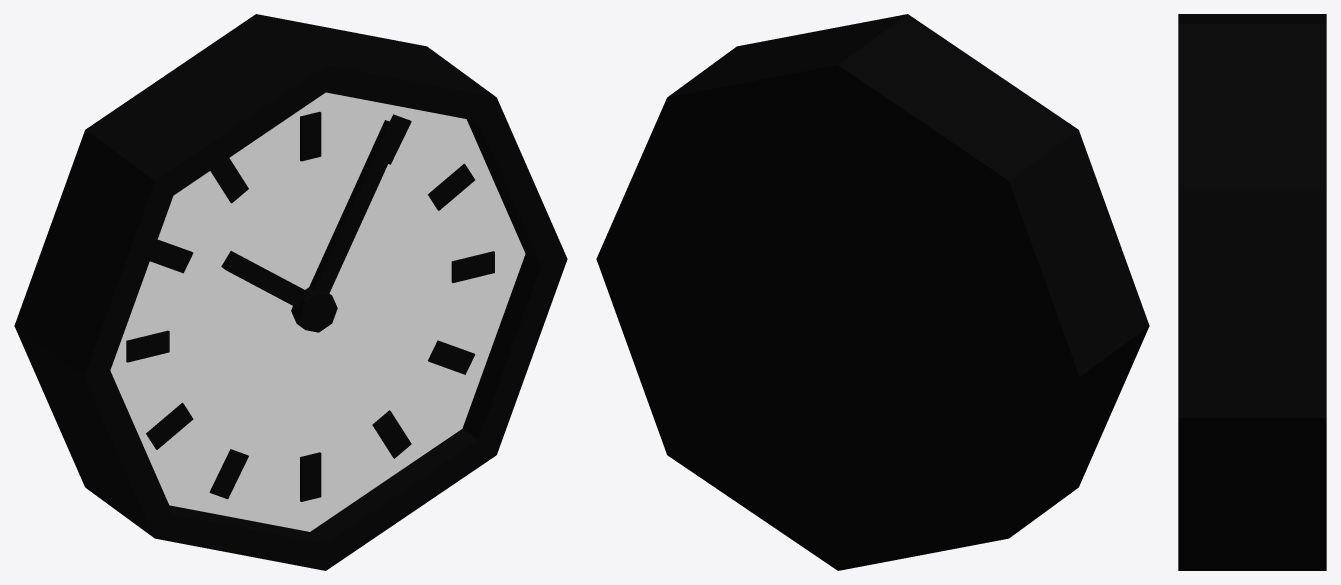
File: clock.gltf
3 views of the same model, side by side, from view 1: azimuth 30°, elevation 25°; view 2: azimuth 150°, elevation 25°; view 3: azimuth 270°, elevation 25° (orthographic). The views are drawn at different scales.
Visible parts, largest first — view 1: clock; view 2: clock; view 3: clock.
Part boxes in pixels (box(x1,y1,x2,y2)): clock: box(14, 14, 567, 570); clock: box(596, 14, 1149, 570); clock: box(1178, 14, 1326, 570).
Size of the model in its own units: 4.83 by 4.83 by 1.21.
Materials: 1 (1 with a texture image).
